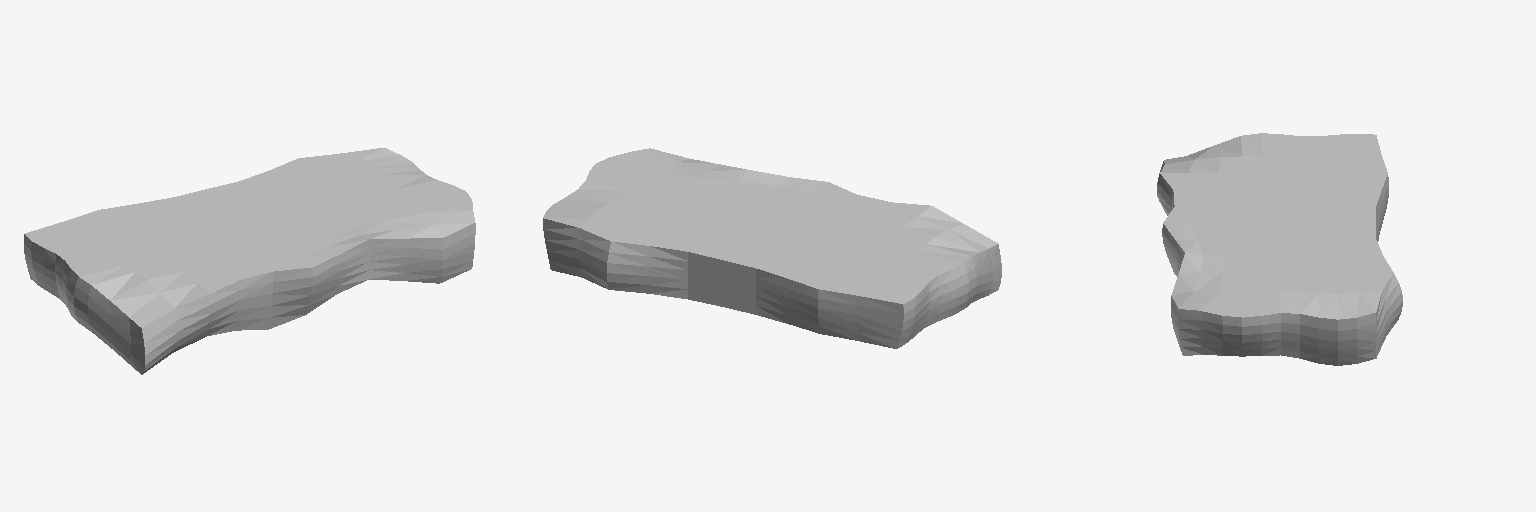
Rendered from GroundTwo.obj.
3 renders of one model, left to right at view 1: azimuth 30°, elevation 25°; view 2: azimuth 150°, elevation 25°; view 3: azimuth 270°, elevation 25°, orthographic.
Parts seen in each view (by area): view 1: GroundTwo; view 2: GroundTwo; view 3: GroundTwo.
Part boxes in pixels (x1,y1,x2,y2): GroundTwo: (24,148,475,374); GroundTwo: (543,148,1001,348); GroundTwo: (1157,133,1402,365).
Bounding box in the file's own units: 5.59 × 0.9827 × 3.12.